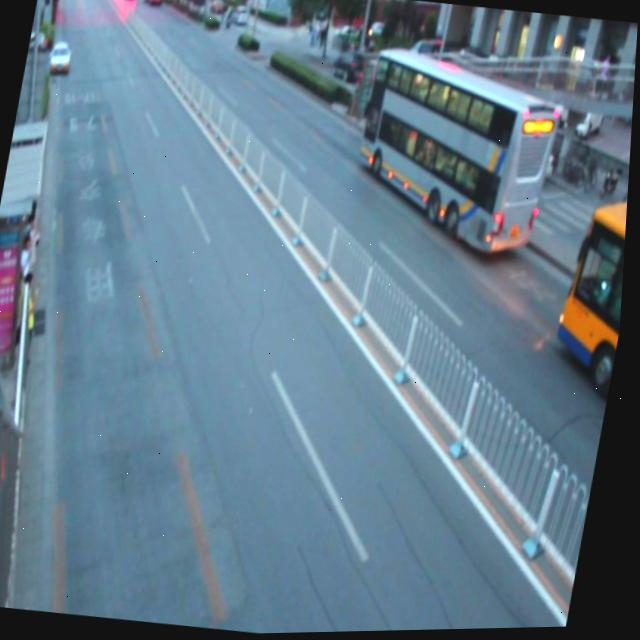van: (345, 46, 566, 264), (547, 195, 630, 394)
